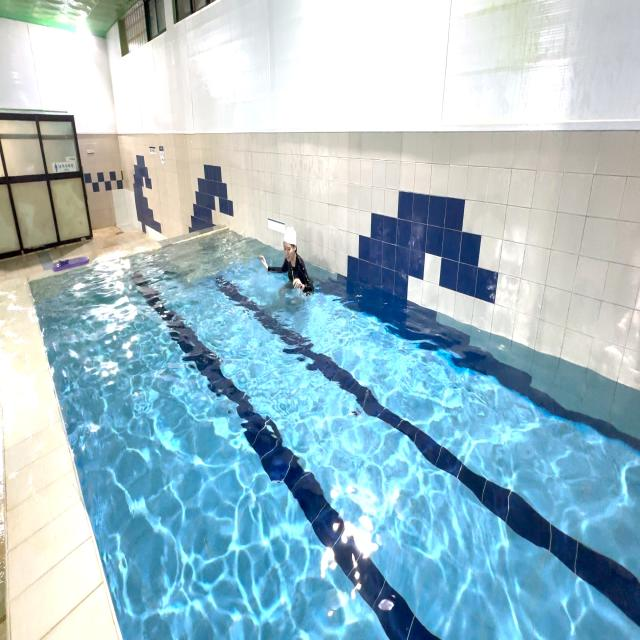Swimming: (258, 223, 316, 299)
